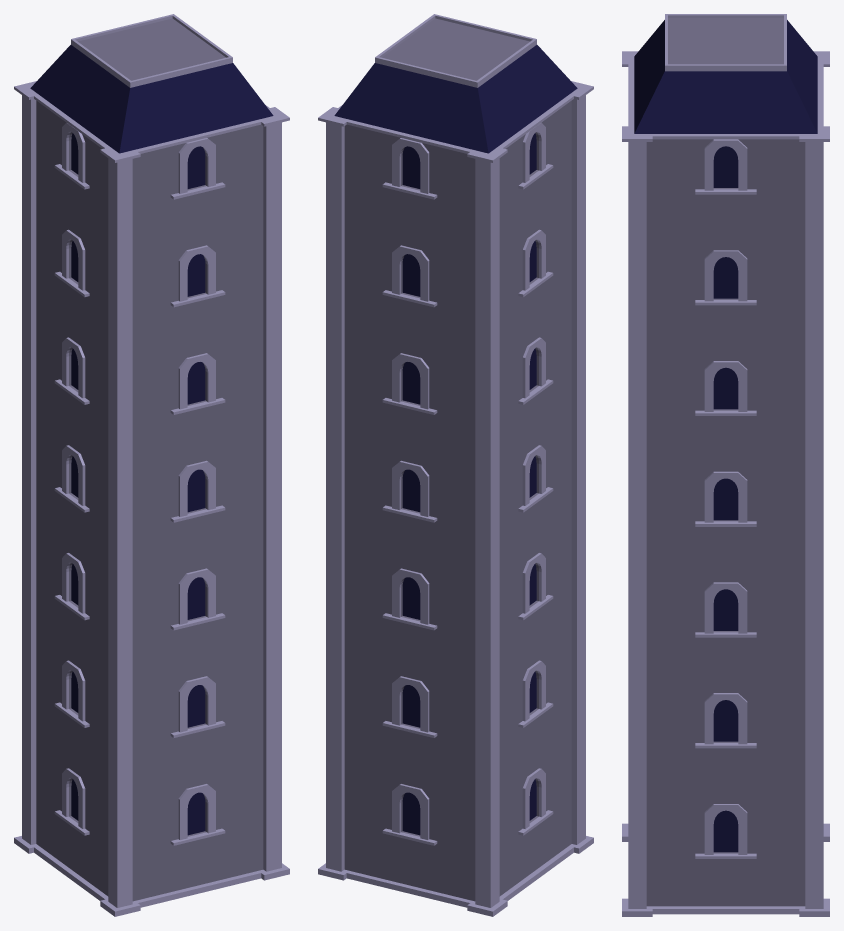
File: house v6.005.fbx
3 views of the same model, side by side, from view 1: azimuth 30°, elevation 25°; view 2: azimuth 150°, elevation 25°; view 3: azimuth 270°, elevation 25° (orthographic). The views are drawn at different scales.
Parts seen in each view (by area): view 1: Building; view 2: Building; view 3: Building.
Part boxes in pixels (x1=…): Building: x1=14, y1=14, x2=289, y2=916; Building: x1=318, y1=14, x2=593, y2=916; Building: x1=622, y1=14, x2=829, y2=916.
Bounding box in the file's own units: 340 × 340 × 1505.
